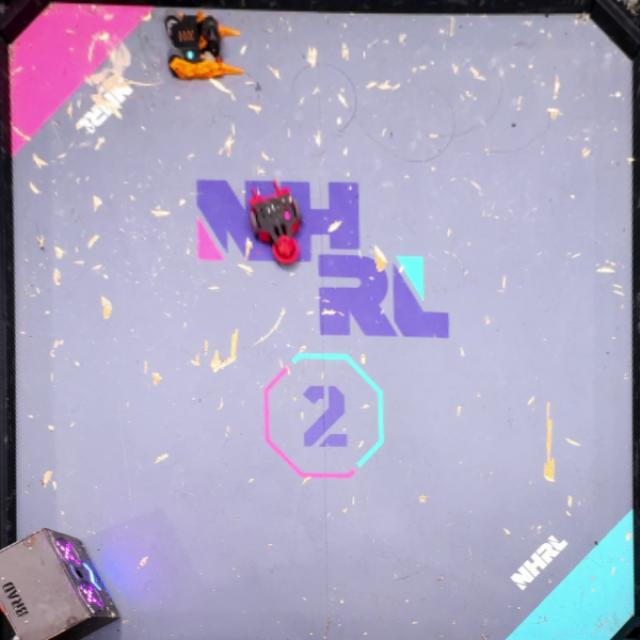housebot: (0, 528, 119, 640)
robot: (162, 6, 245, 78), (245, 179, 304, 265)
